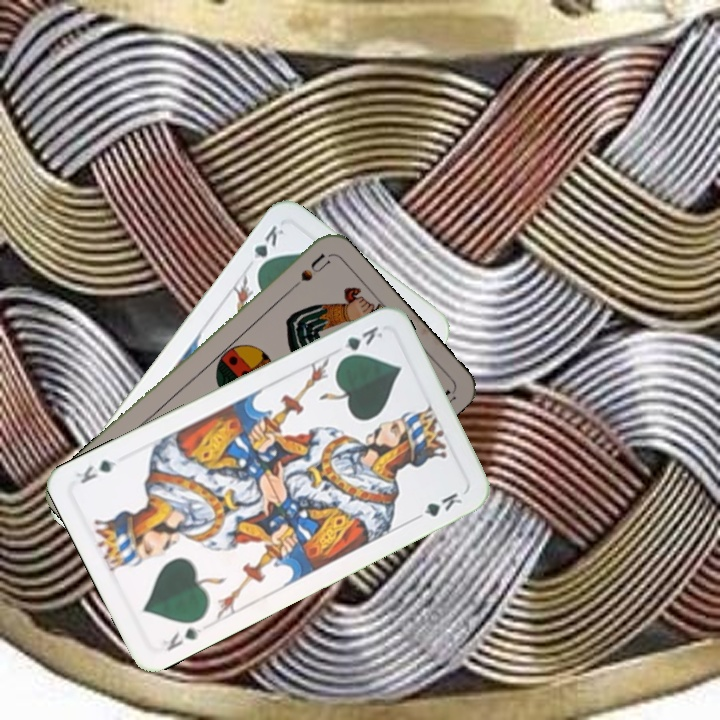GK: (330, 321, 385, 363), (249, 221, 287, 276), (157, 623, 205, 654)
SU: (281, 250, 332, 297)
